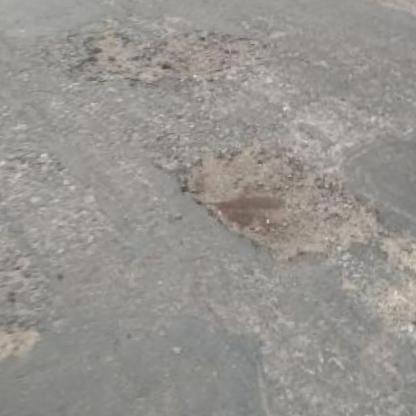pothole: (170, 126, 392, 276), (66, 13, 276, 96)
